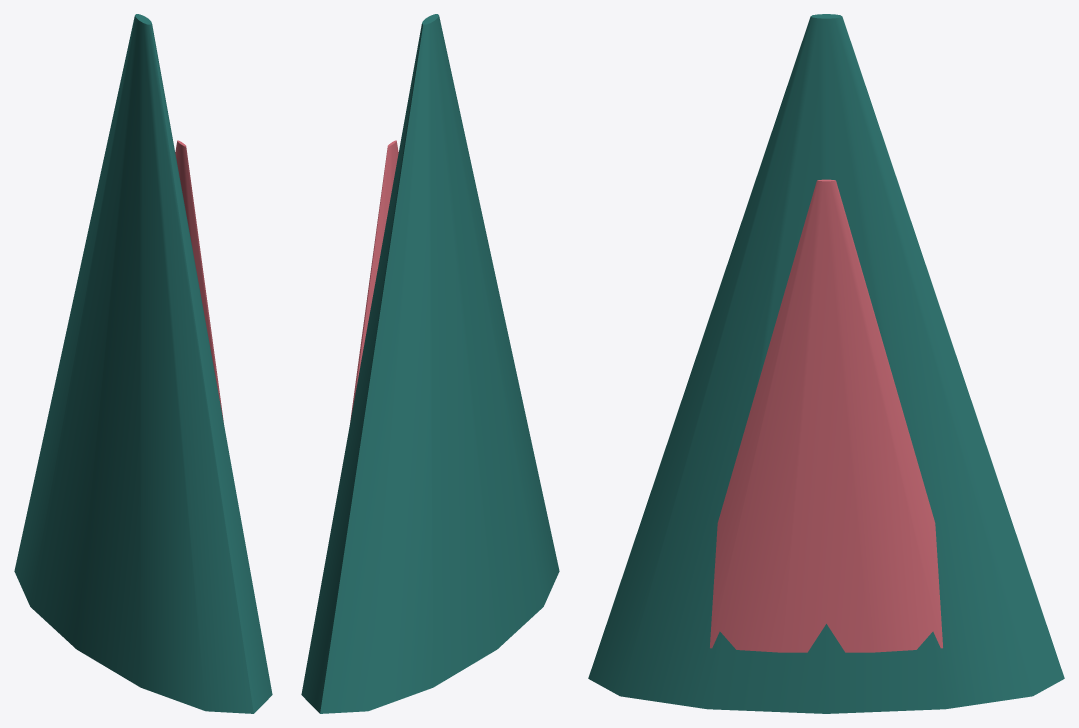
The model's file is ear_pointy.glb.
3 views of the same model, side by side, from view 1: azimuth 30°, elevation 25°; view 2: azimuth 150°, elevation 25°; view 3: azimuth 270°, elevation 25° (orthographic). The views are drawn at different scales.
Visible parts, largest first — view 1: ear_pointy, ear_pointy_inner; view 2: ear_pointy, ear_pointy_inner; view 3: ear_pointy, ear_pointy_inner.
Part boxes in pixels (x1,y1,x2,y2): ear_pointy: [14, 14, 272, 713]; ear_pointy_inner: [175, 140, 223, 420]; ear_pointy: [301, 14, 559, 713]; ear_pointy_inner: [350, 140, 398, 420]; ear_pointy: [588, 14, 1064, 713]; ear_pointy_inner: [710, 179, 942, 652].
Bounding box in the file's own units: 0.105 × 0.46 × 0.3.
